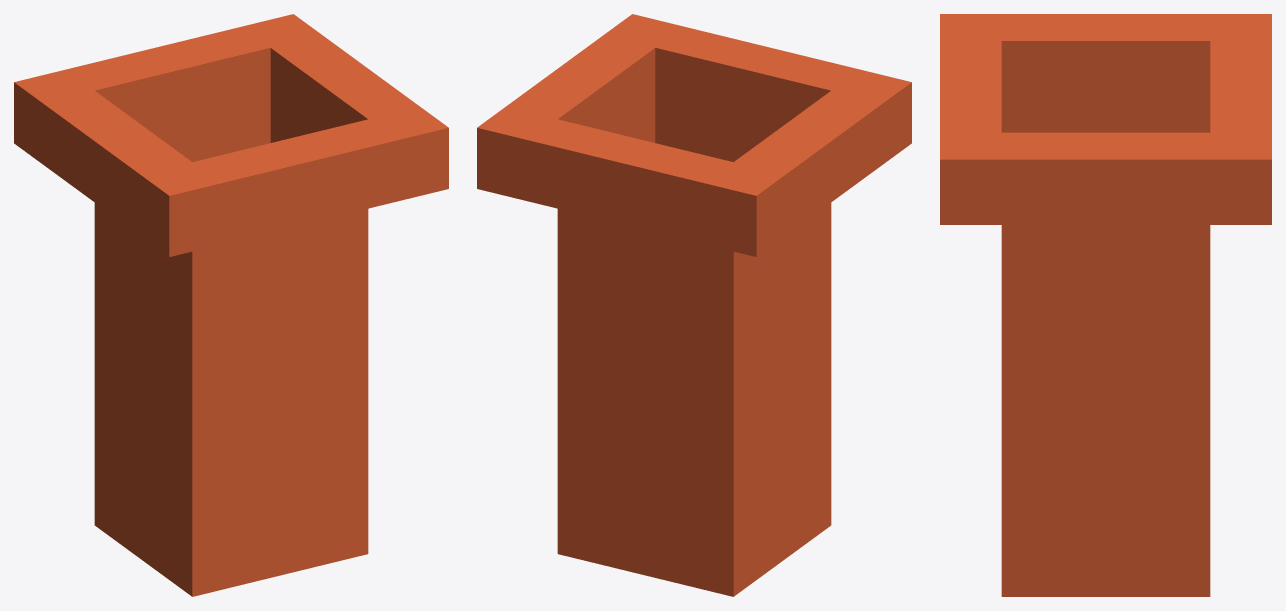
The model's file is Chaminé1.fbx.
3 renders of one model, left to right at view 1: azimuth 30°, elevation 25°; view 2: azimuth 150°, elevation 25°; view 3: azimuth 270°, elevation 25°, orthographic. The views are drawn at different scales.
Visible parts, largest first — view 1: Cube.048; view 2: Cube.048; view 3: Cube.048.
Part boxes in pixels (box(x1,y1,x2,y2)): Cube.048: box(14, 14, 448, 596); Cube.048: box(477, 14, 911, 596); Cube.048: box(940, 14, 1271, 596).
Size of the model in its own units: 52.18 by 77.56 by 50.25.
